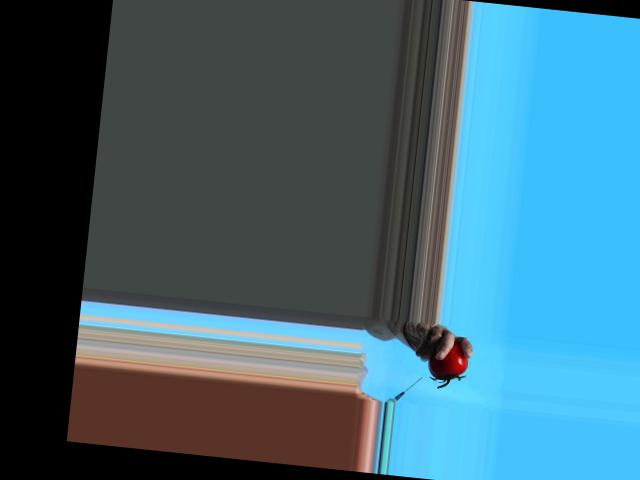tomato: (427, 339, 470, 382)
